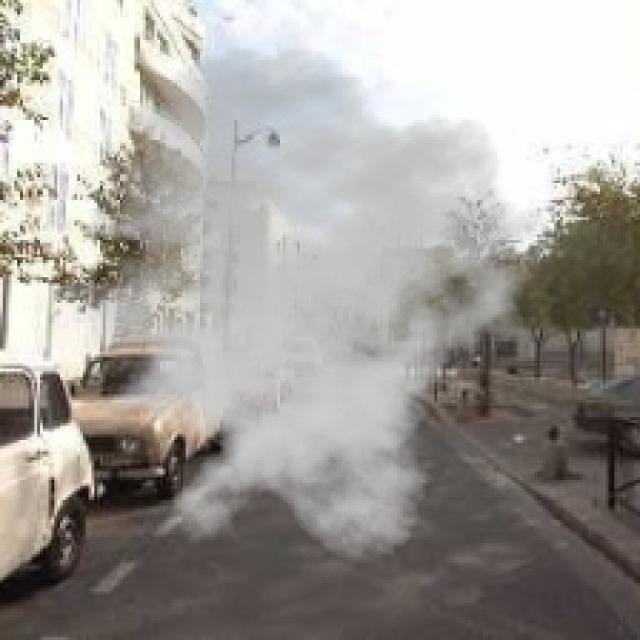smoke: (29, 46, 557, 563)
